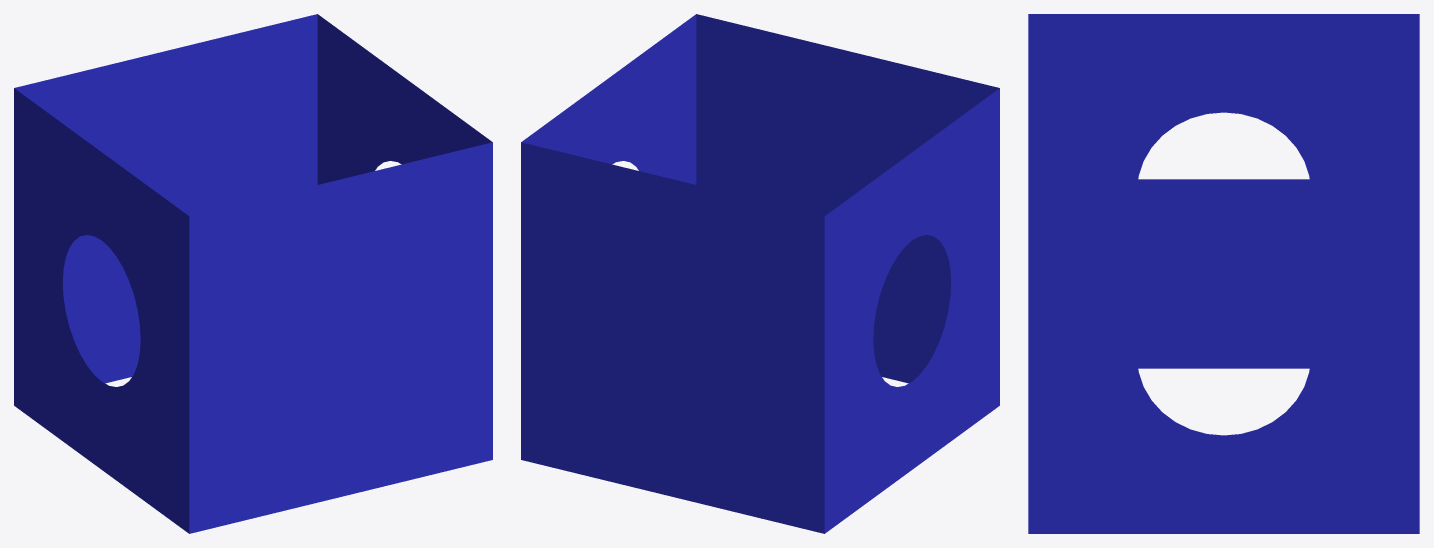
The model's file is cube_simple.dae.
3 views of the same model, side by side, from view 1: azimuth 30°, elevation 25°; view 2: azimuth 150°, elevation 25°; view 3: azimuth 270°, elevation 25° (orthographic). The views are drawn at different scales.
Visible parts, largest first — view 1: Cube.007; view 2: Cube.007; view 3: Cube.007.
Part boxes in pixels (box(x1,y1,x2,y2)): Cube.007: box(14, 14, 492, 533); Cube.007: box(521, 14, 999, 533); Cube.007: box(1028, 14, 1419, 533).
Size of the model in its own units: 0.09 by 0.09 by 0.09.
